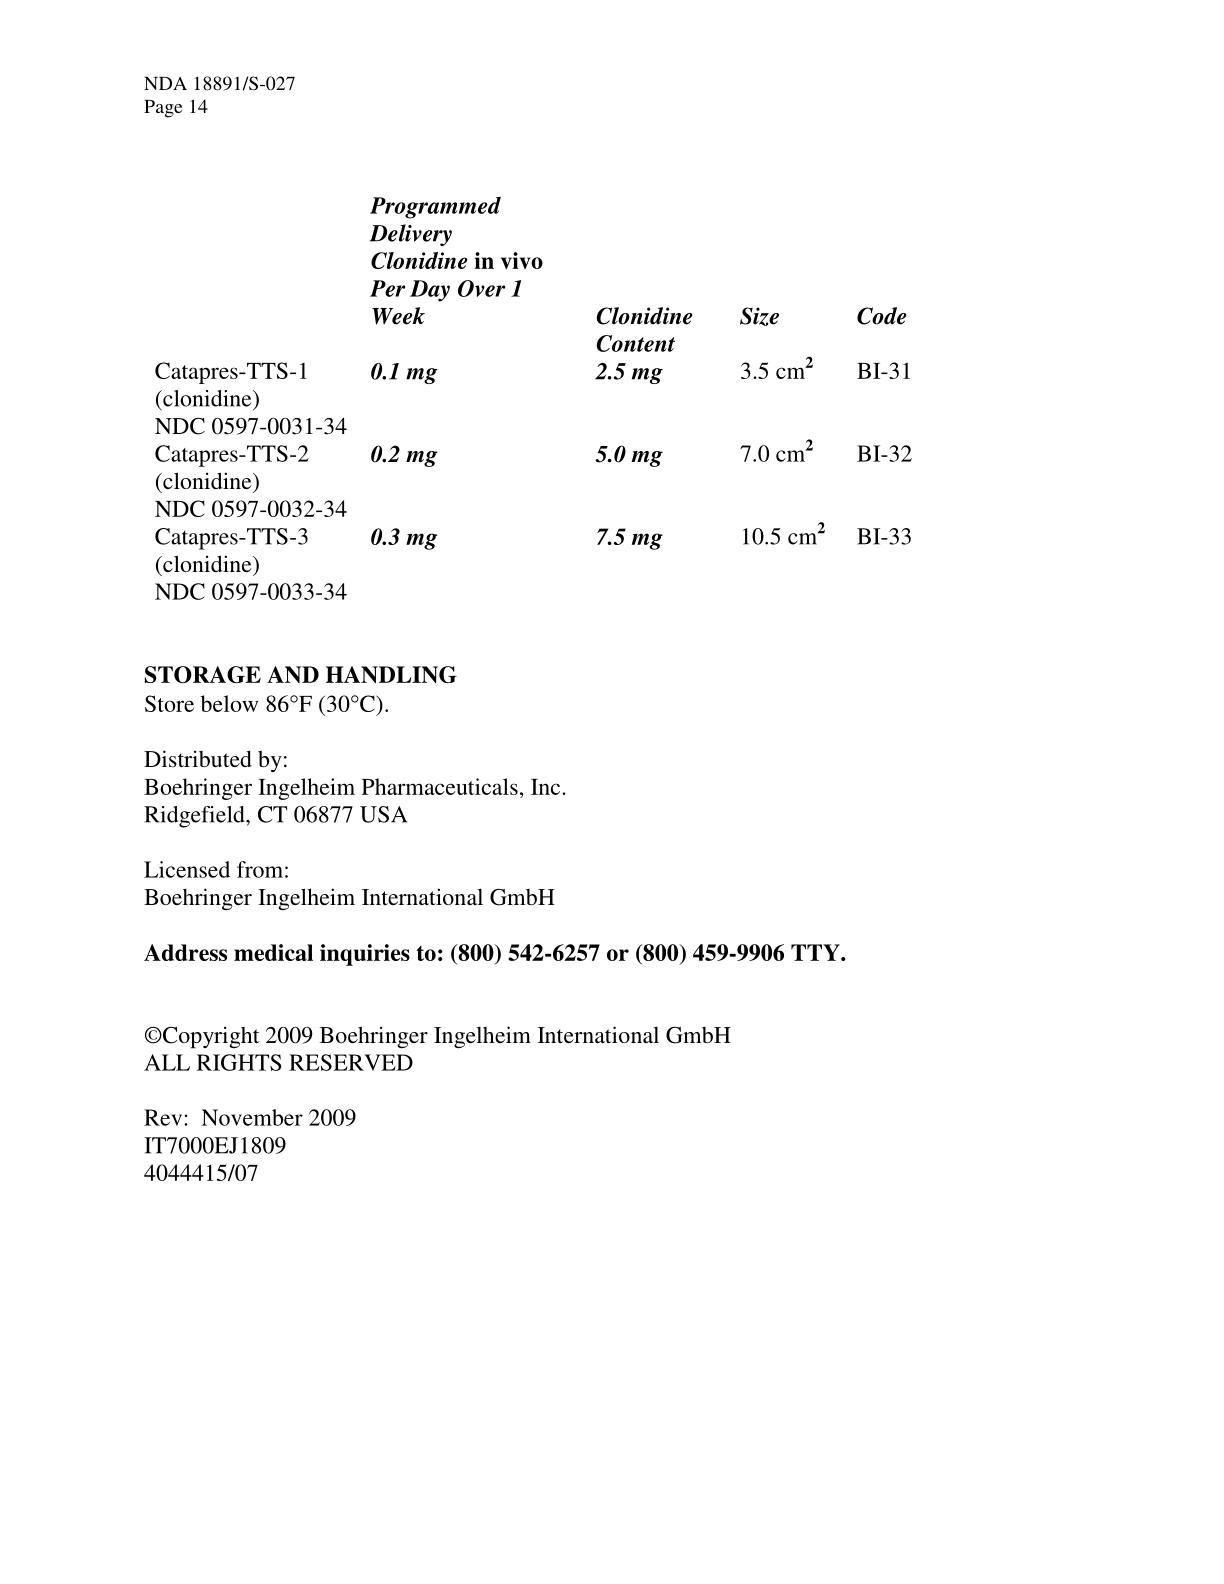nolines: (149, 192, 918, 609)
